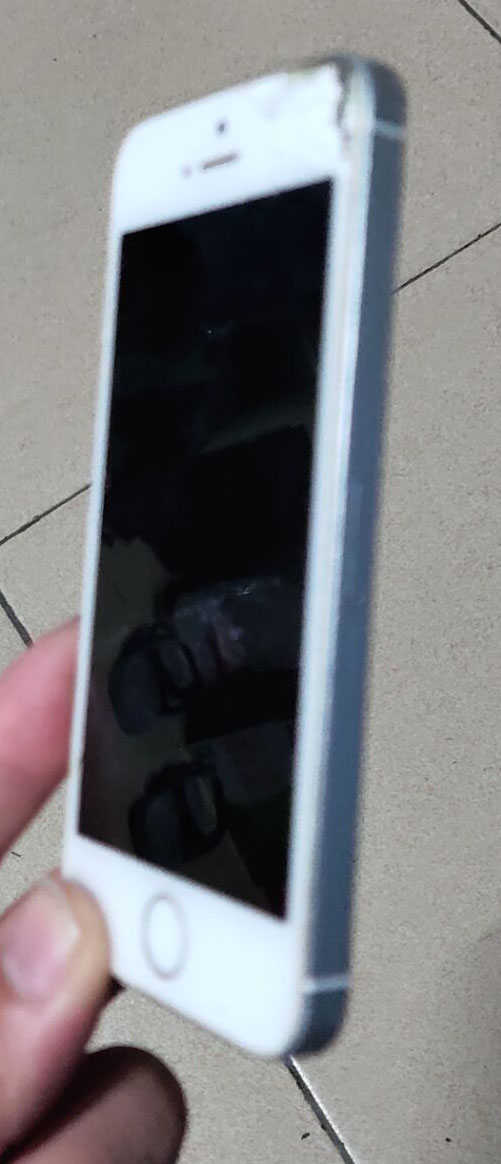phone: (55, 50, 411, 1073)
